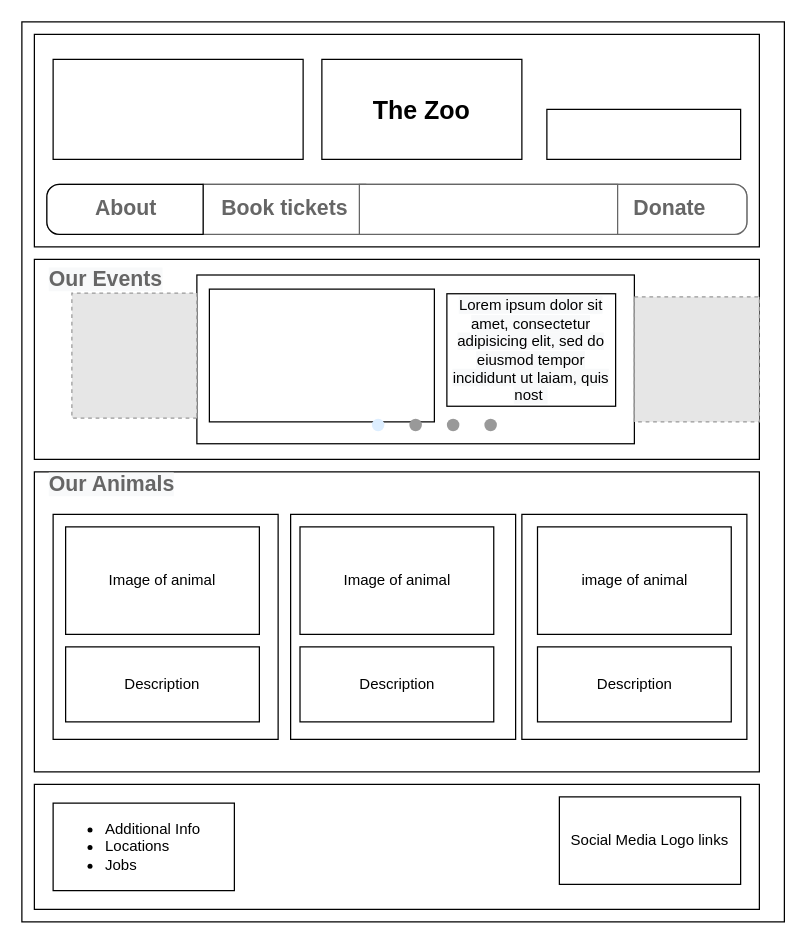
The diagram is 806 pixels wide and 944 high, and some of its shapes have lost their labels. Grey dashed boxes stand in for pictures. Here are the shapes that lost their labels. From the top down, the centre of each, then its label:
At [177,108]: "LOGO".
At [643,133]: "Search Bar".
At [488,208]: "Animals".
At [321,355]: "Image of current events".
